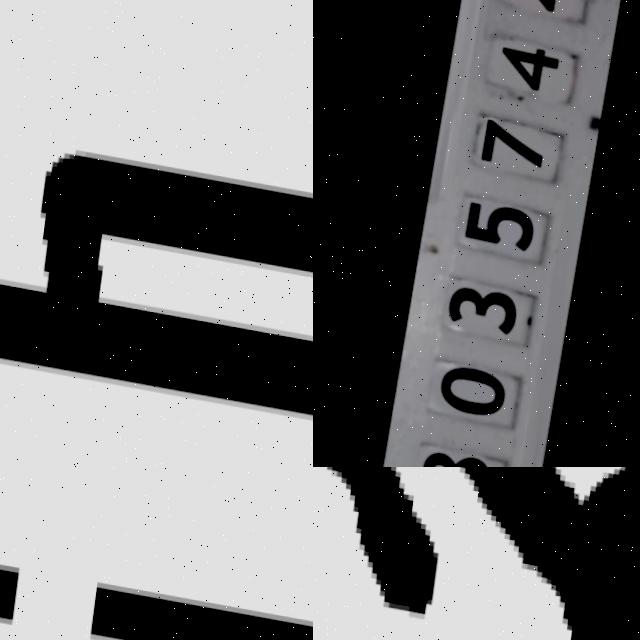0: (423, 355, 515, 425)
2: (313, 467, 640, 640)
3: (430, 275, 528, 345)
4: (477, 32, 574, 99), (496, 0, 584, 20)
5: (451, 190, 542, 261)
7: (462, 110, 558, 181)
8: (407, 439, 498, 467)
H: (0, 102, 313, 431)
I: (0, 546, 313, 640)
